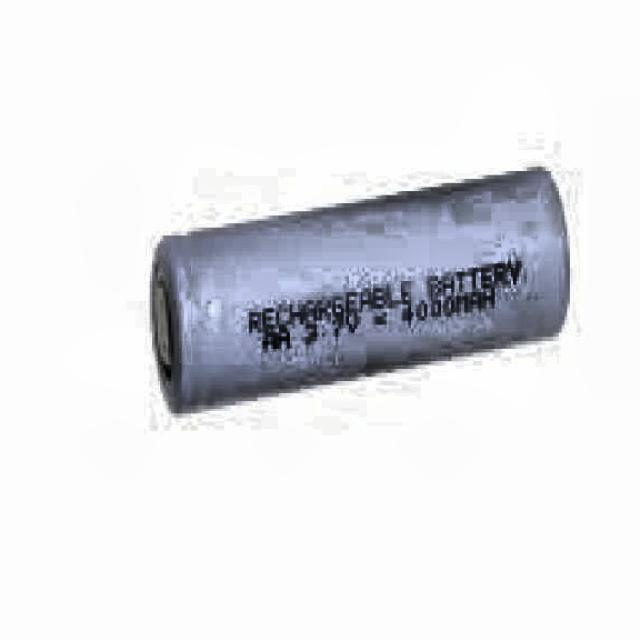battery: (150, 167, 567, 409)
